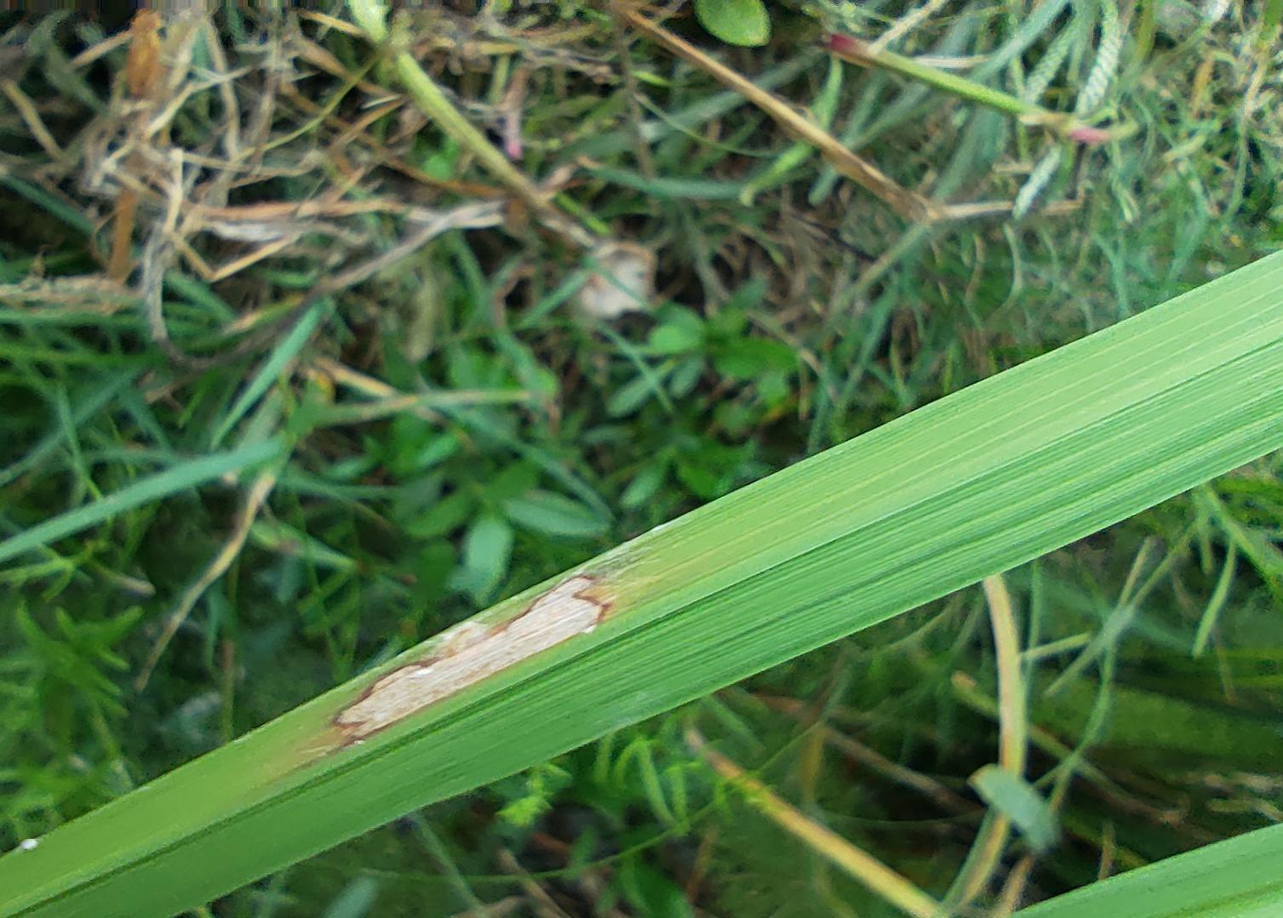LEAF BLAST: (327, 571, 614, 755)
